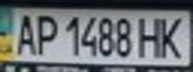1: (60, 12, 81, 56)
4: (78, 12, 100, 57)
8: (97, 14, 118, 57), (115, 15, 136, 58)
A: (9, 10, 39, 56)
H: (136, 14, 166, 58)
K: (154, 13, 190, 60)
P: (30, 11, 60, 56)
